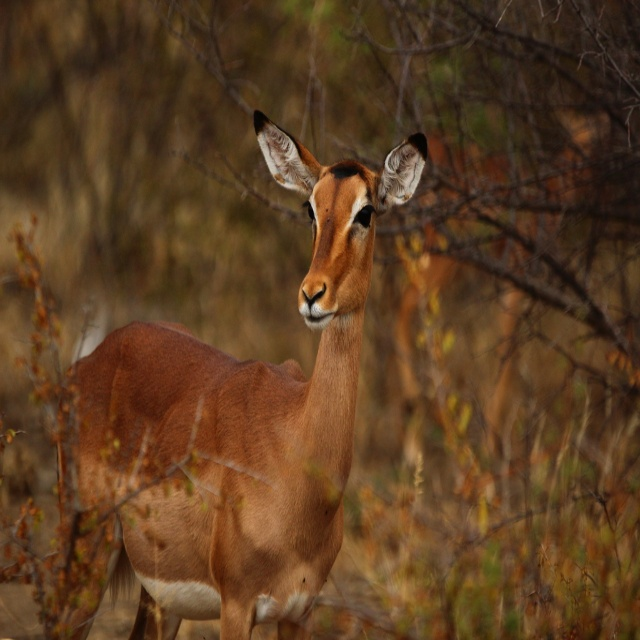Deer: (54, 110, 427, 640)
